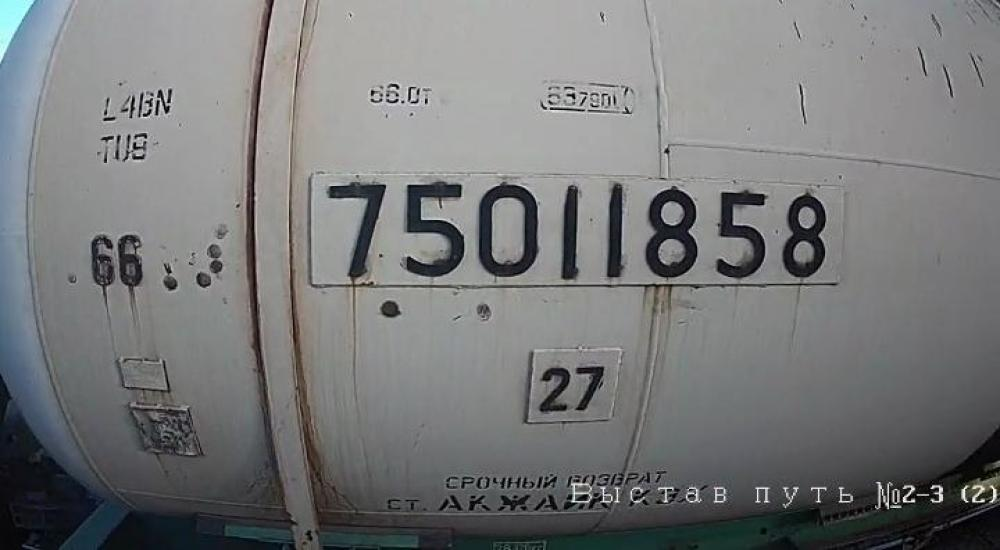Wagon-number: (317, 173, 831, 285)
